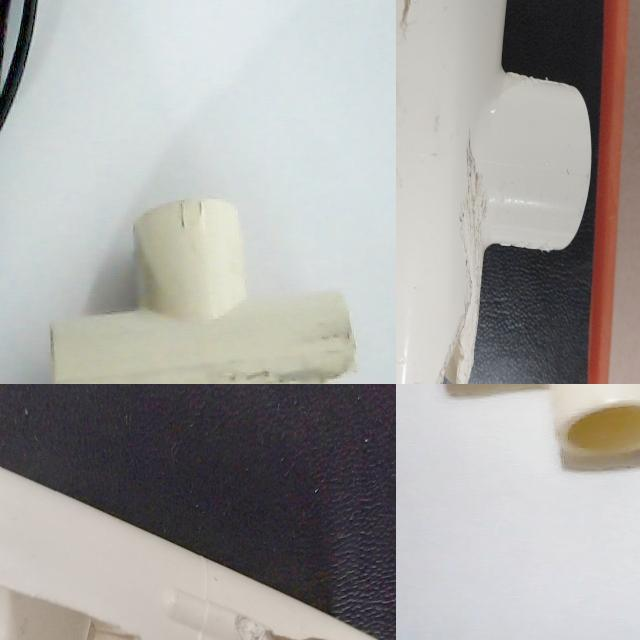Defective: (435, 311, 569, 384), (3, 467, 56, 640), (468, 201, 568, 266), (243, 361, 356, 384), (33, 490, 56, 569), (396, 181, 440, 219)
T Joint: (396, 62, 578, 384), (50, 199, 358, 384), (0, 427, 183, 640)
